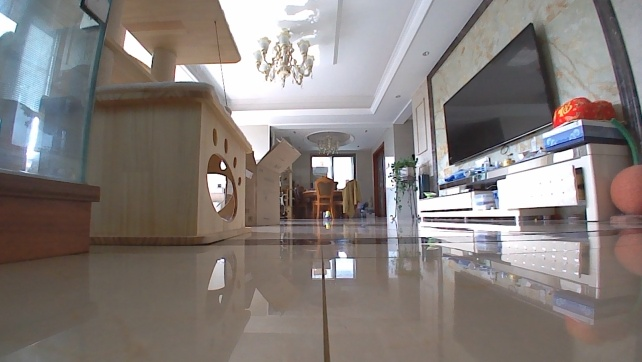TV_stand: (414, 140, 639, 226)
dining_table: (299, 173, 362, 221)
